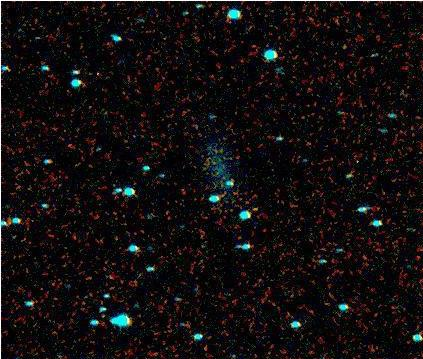star: (239, 192, 269, 222)
